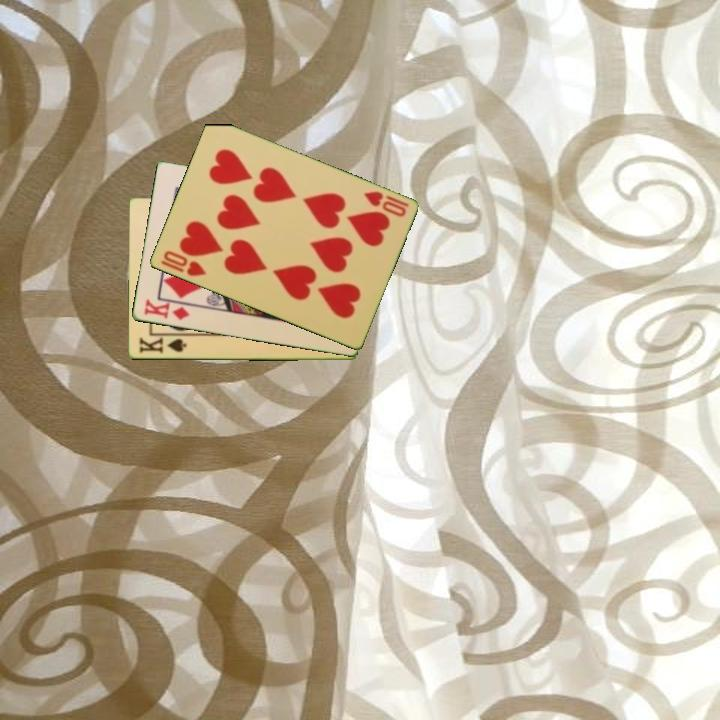10h: (156, 247, 209, 279), (360, 188, 412, 220)
Kd: (140, 296, 192, 323)
Ks: (135, 334, 189, 356)
